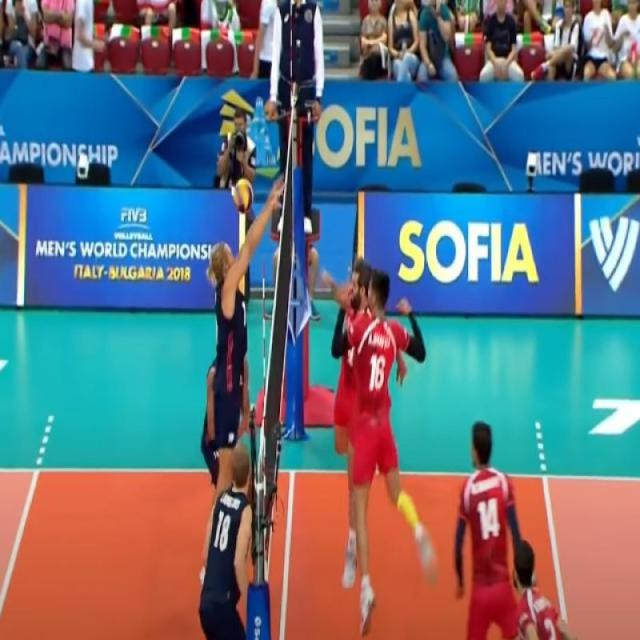volleyball: (231, 173, 255, 216)
